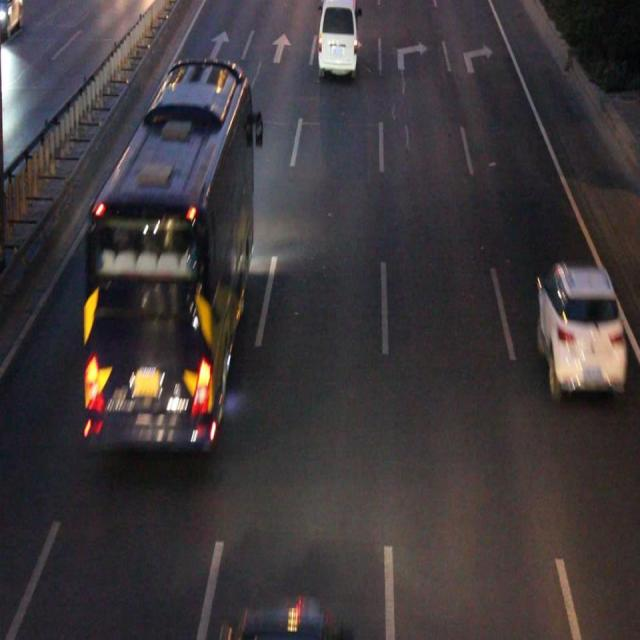car: (535, 268, 622, 389)
truck: (318, 1, 355, 74)
van: (87, 64, 252, 450)
